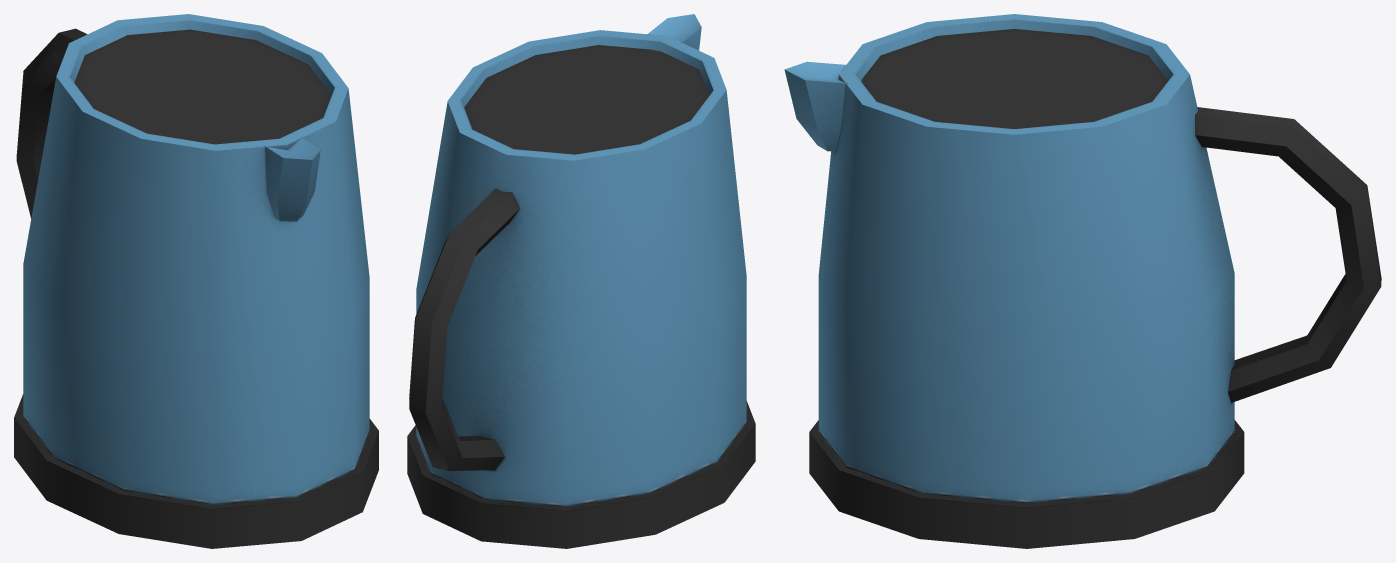
The model's file is kettle_final.FBX.
3 views of the same model, side by side, from view 1: azimuth 30°, elevation 25°; view 2: azimuth 150°, elevation 25°; view 3: azimuth 270°, elevation 25° (orthographic). The views are drawn at different scales.
Visible parts, largest first — view 1: Cylinder001; view 2: Cylinder001; view 3: Cylinder001.
Boxes of the visible parts, left/top/right/bottom form: Cylinder001: left=14, top=14, right=378, bottom=548; Cylinder001: left=407, top=14, right=755, bottom=548; Cylinder001: left=784, top=14, right=1381, bottom=548.
Size of the model in its own units: 49.9 by 62.07 by 83.28.
